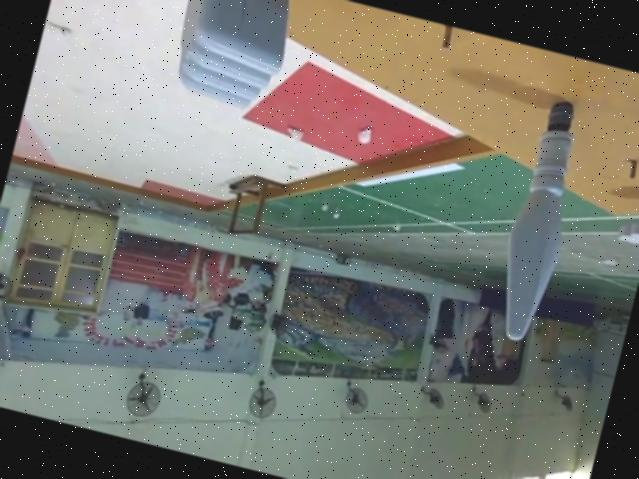Fist: (161, 0, 302, 116)
Hand: (607, 172, 639, 254)
Sph: (481, 87, 602, 344), (482, 86, 602, 342)
